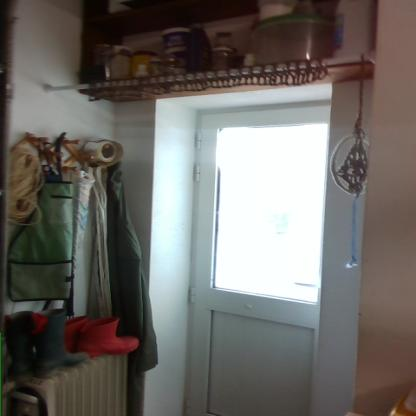closed: (150, 93, 389, 415)
